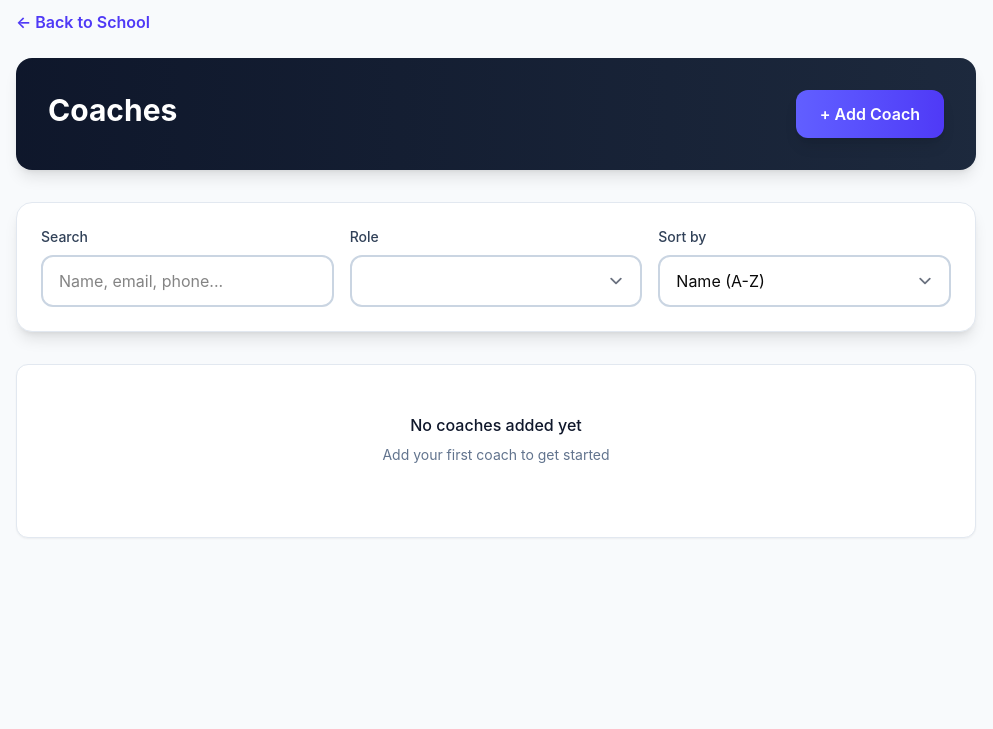
pages/schools/[id]/coaches.vue › Add Coach Form › should hide form when Cancel is clicked
Click the button "+ Add Coach": [870, 114] box [796,90,944,138]
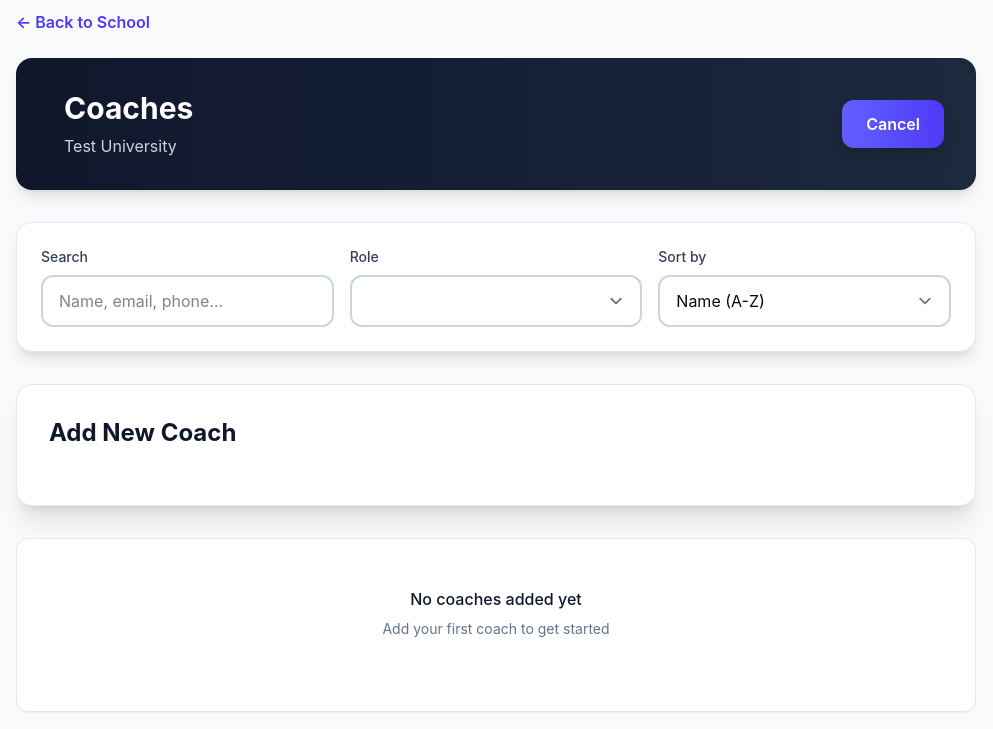
Click the button "Cancel": [893, 124] box [842,100,944,148]
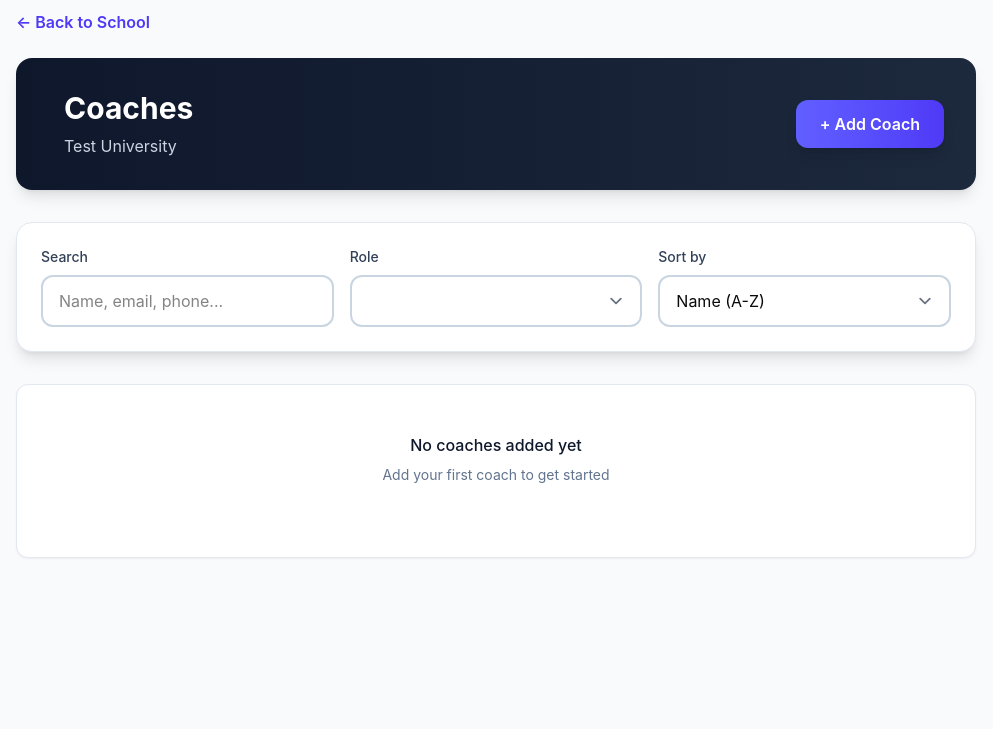
Expected: the text "Add New Coach" is gone
